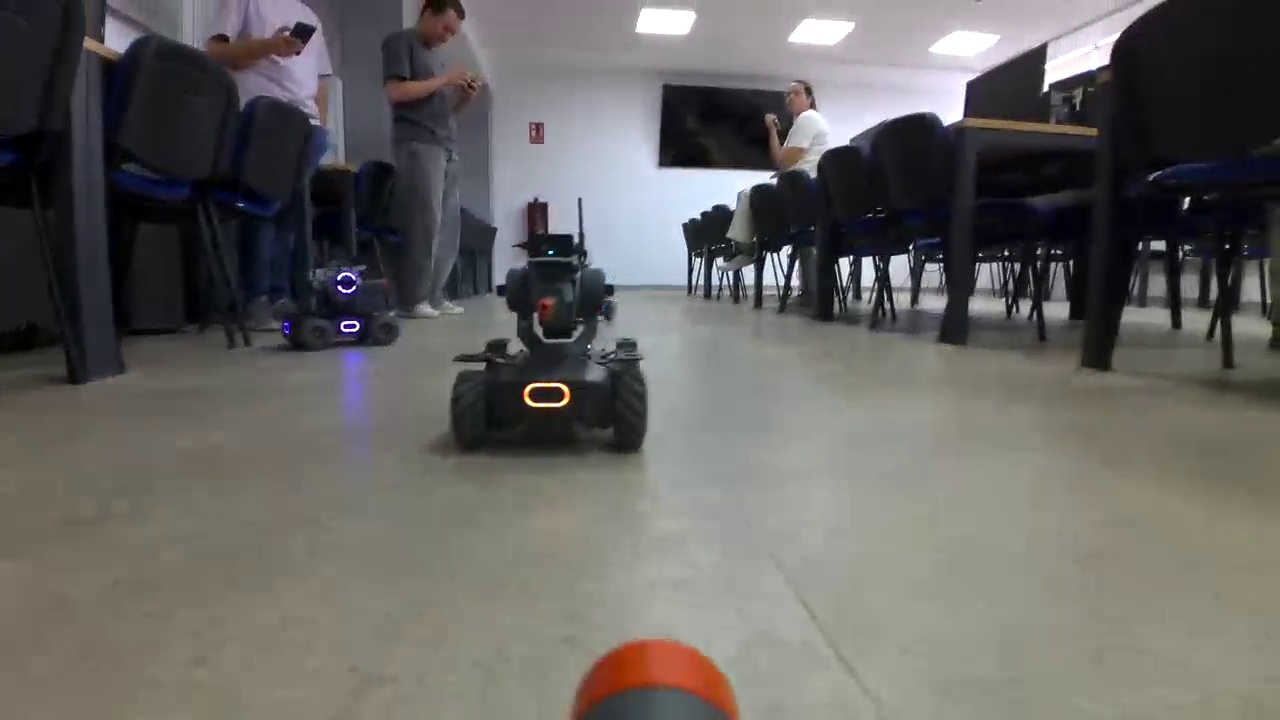robot: (450, 235, 648, 452), (280, 262, 400, 348)
